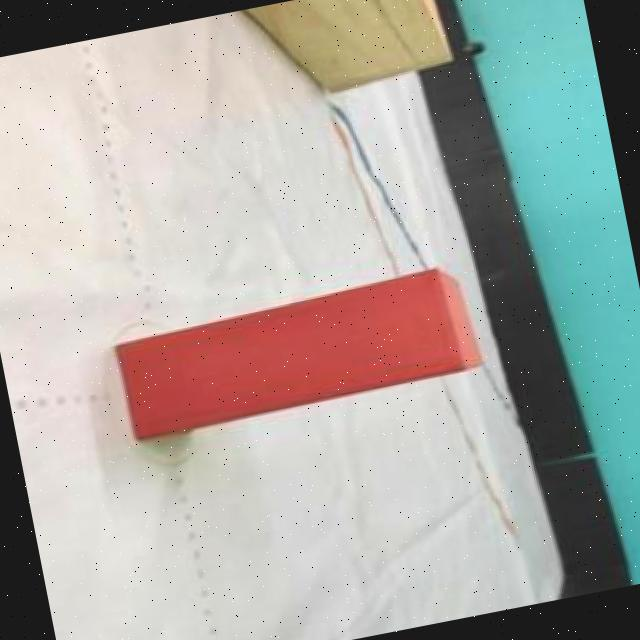redbox: (113, 261, 486, 440)
